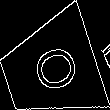O_W: (22, 40, 79, 98)
